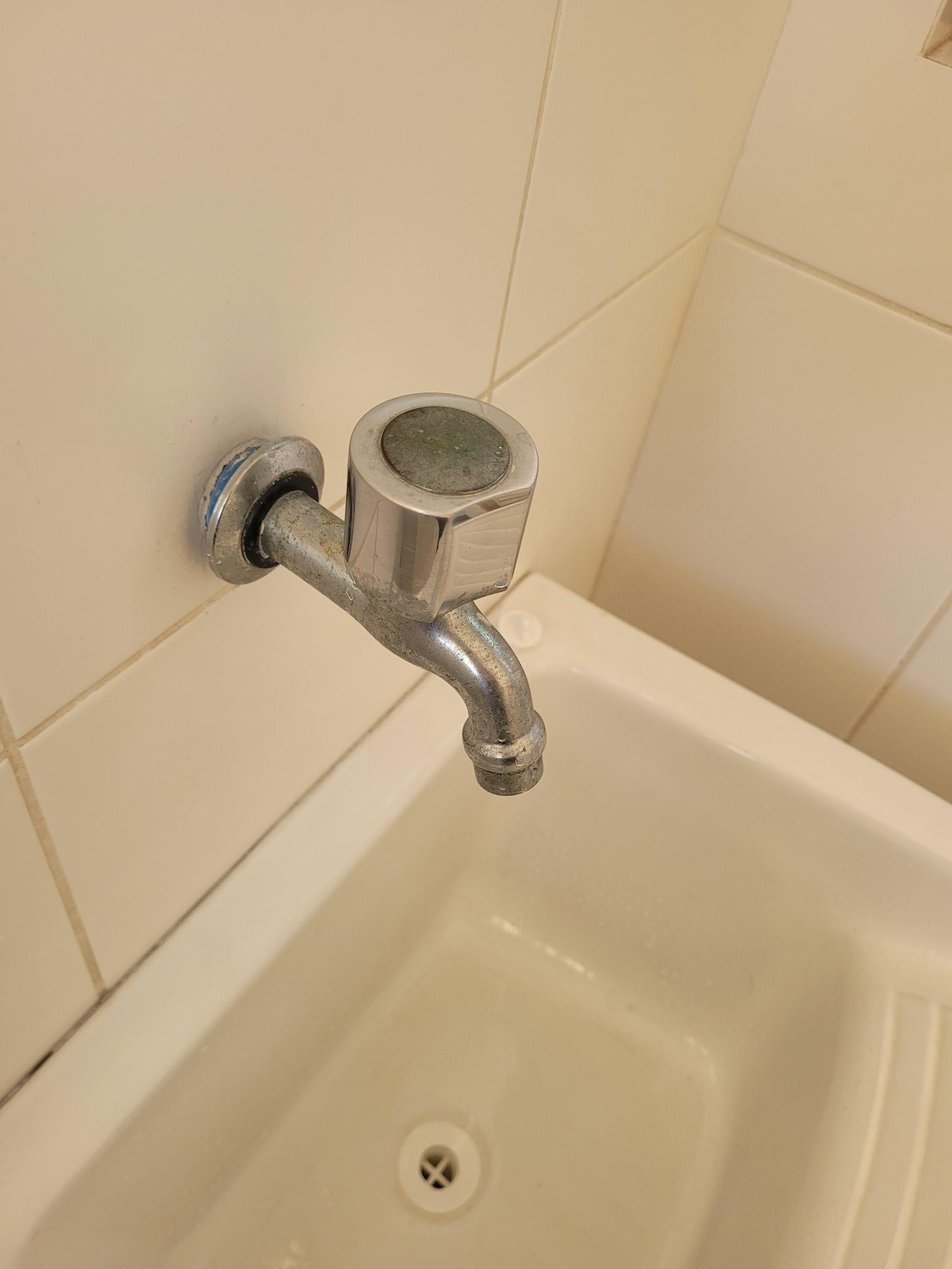torneira_fechada: (171, 354, 587, 810)
